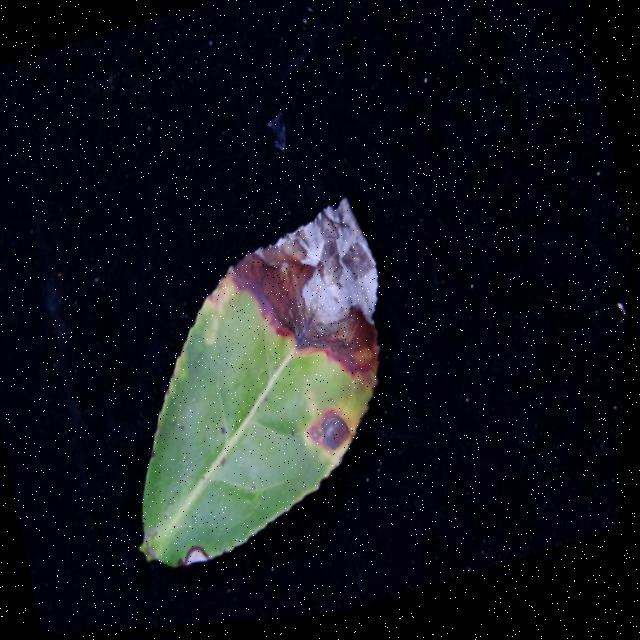Tea cloud leaf blight: (219, 185, 429, 416)
